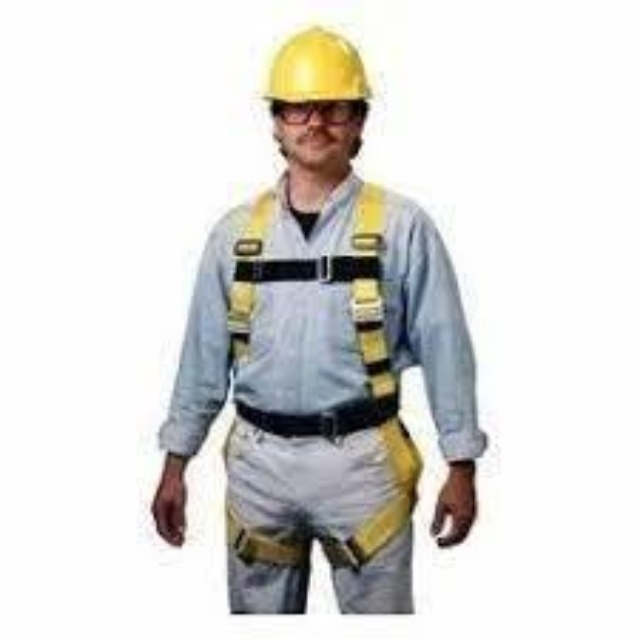Arnes_seguridad: (217, 181, 423, 576)
